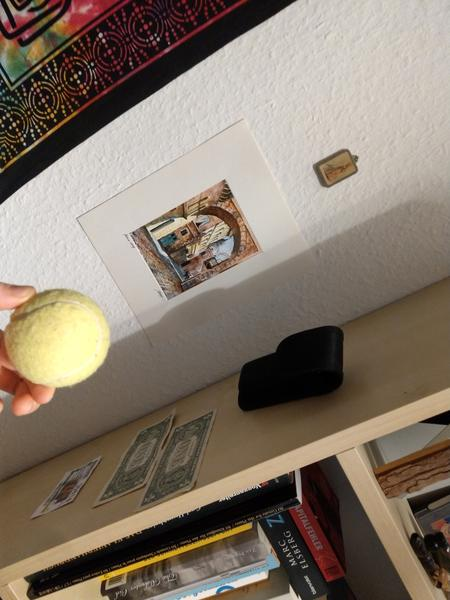Tennisball: (4, 284, 115, 393)
